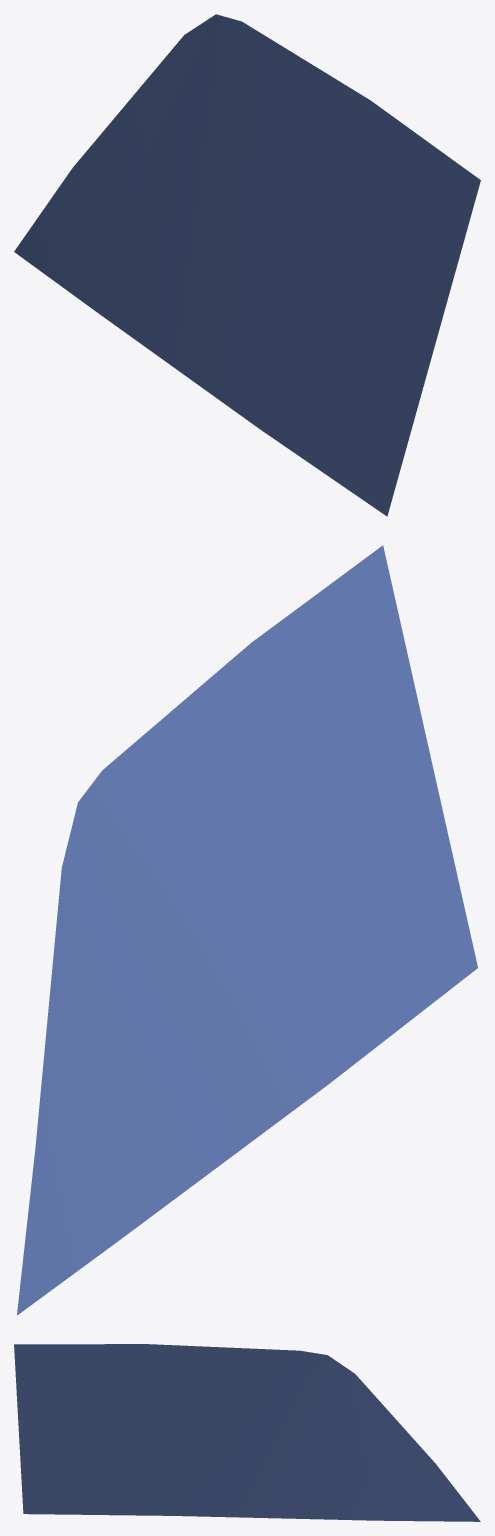
Rendered from Classic_1_Glass_LF_Tesselated.fbx.
3 views of the same model, one above another, from view 1: azimuth 30°, elevation 25°; view 2: azimuth 150°, elevation 25°; view 3: azimuth 270°, elevation 25° (orthographic). The views are drawn at different scales.
Visible parts, largest first — view 1: Classic_1_Glass_LF_Tesselated; view 2: Classic_1_Glass_LF_Tesselated; view 3: Classic_1_Glass_LF_Tesselated.
Boxes of the visible parts, x1,y1,x2,y2 form: Classic_1_Glass_LF_Tesselated: [14, 14, 480, 516]; Classic_1_Glass_LF_Tesselated: [17, 545, 477, 1315]; Classic_1_Glass_LF_Tesselated: [14, 1344, 480, 1521].
Bounding box in the file's own units: 12.06 × 43.71 × 91.51.
